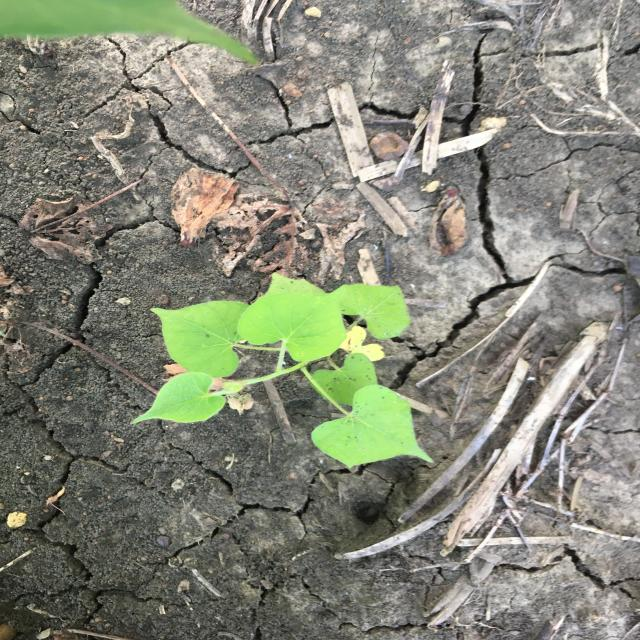MorningGlory: (129, 269, 438, 469)
